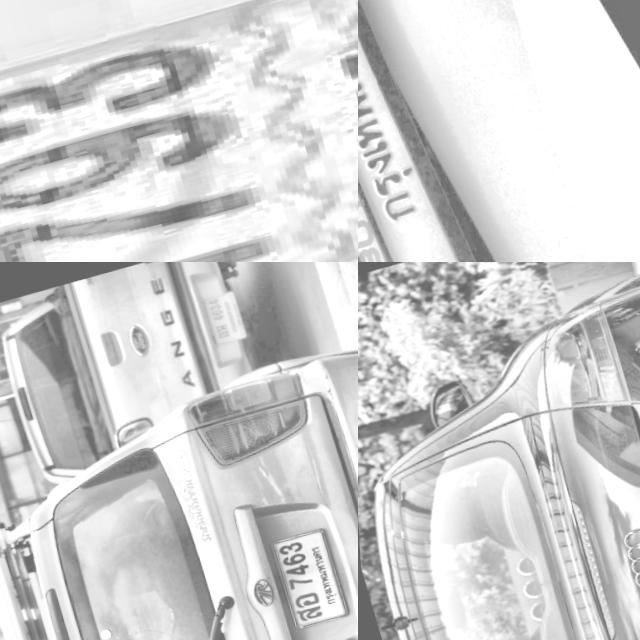license-plate: (0, 0, 358, 262), (358, 0, 481, 262), (260, 528, 346, 634), (197, 288, 251, 349)
